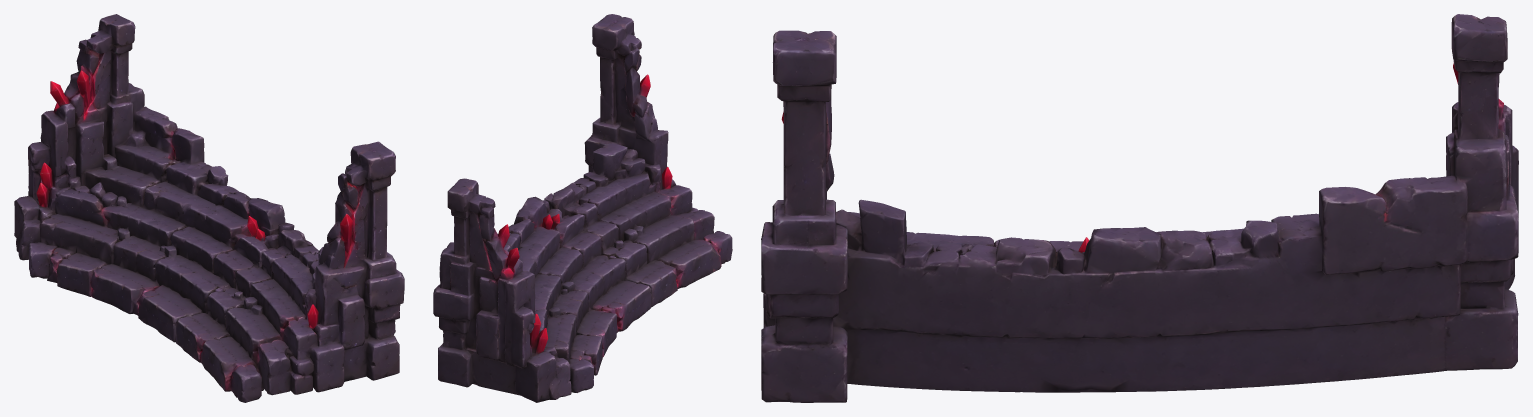
File: arena_wall_segment.glb
The picture shows the model from 3 angles, left to right: view 1: azimuth 30°, elevation 25°; view 2: azimuth 150°, elevation 25°; view 3: azimuth 270°, elevation 25°; orthographic projection. The views are drawn at different scales.
Visible parts, largest first — view 1: tripo_node_35a240d8-e813-478f-b577-bebd1fbf00cc; view 2: tripo_node_35a240d8-e813-478f-b577-bebd1fbf00cc; view 3: tripo_node_35a240d8-e813-478f-b577-bebd1fbf00cc.
Boxes of the visible parts, bbox=[...] form: tripo_node_35a240d8-e813-478f-b577-bebd1fbf00cc: bbox=[14, 14, 404, 402]; tripo_node_35a240d8-e813-478f-b577-bebd1fbf00cc: bbox=[433, 14, 732, 402]; tripo_node_35a240d8-e813-478f-b577-bebd1fbf00cc: bbox=[761, 14, 1518, 402].
Size of the model in its own units: 0.4413 by 0.5237 by 1.
Materials: 1 (1 with a texture image).
